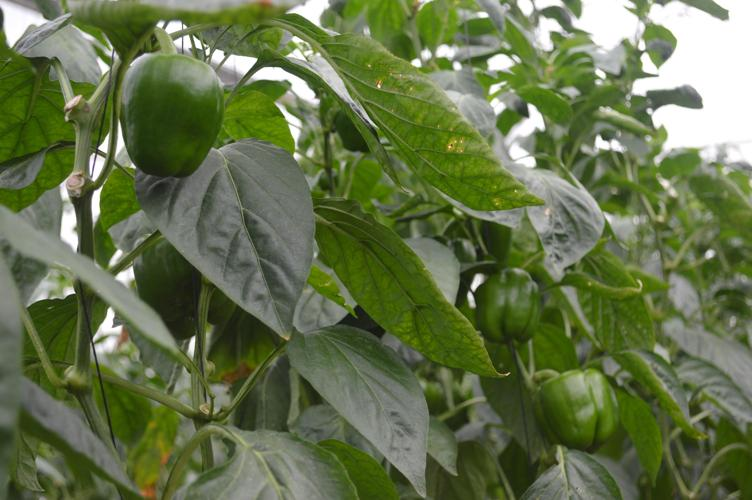BellPepper: (121, 56, 237, 181), (528, 354, 625, 458), (115, 237, 211, 335), (466, 263, 542, 355)
